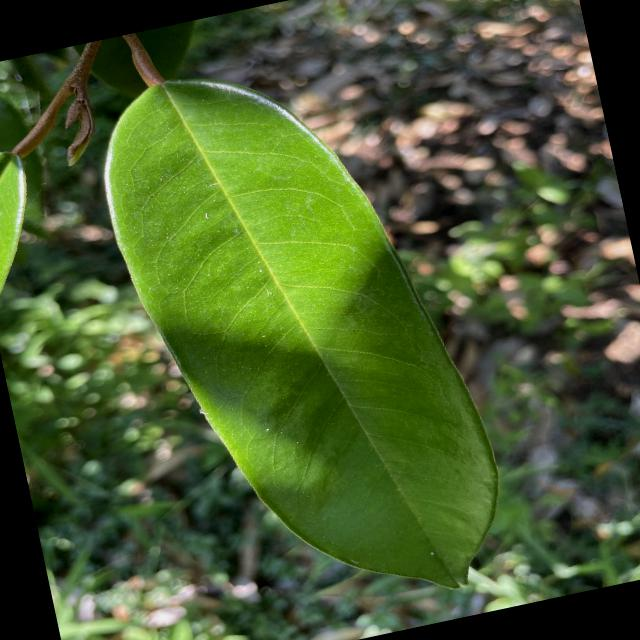No Disease: (76, 12, 527, 639)
